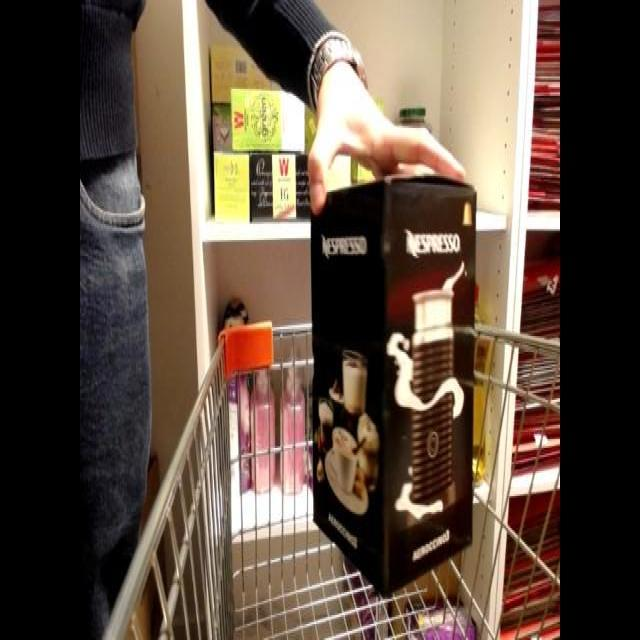Nespresso: (288, 151, 494, 603)
